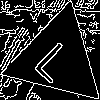L: (32, 33, 84, 86)
